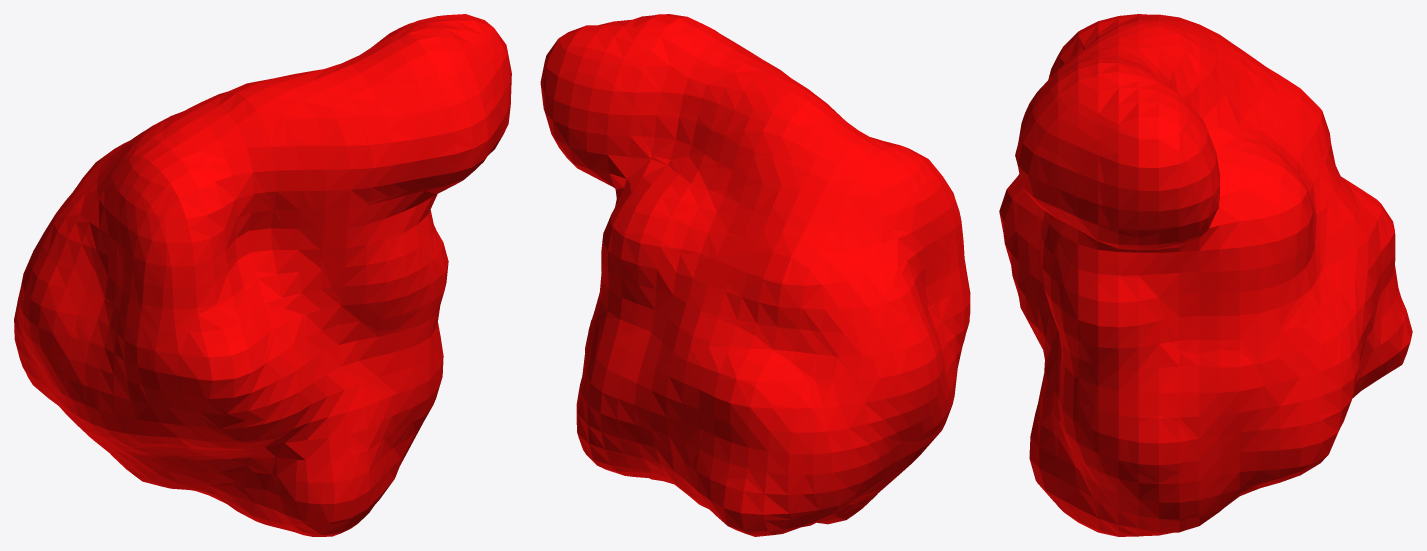
File: mgsA_coarse.dae
3 renders of one model, left to right at view 1: azimuth 30°, elevation 25°; view 2: azimuth 150°, elevation 25°; view 3: azimuth 270°, elevation 25°, orthographic. The views are drawn at different scales.
Visible parts, largest first — view 1: mgsA; view 2: mgsA; view 3: mgsA.
Boxes of the visible parts, x1,y1,x2,y2 form: mgsA: [14, 14, 511, 536]; mgsA: [540, 14, 970, 536]; mgsA: [999, 14, 1412, 536].
Bounding box in the file's own units: 45.68 × 47.85 × 34.97.
